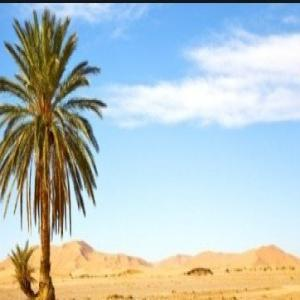palm tree: (0, 8, 106, 298)
